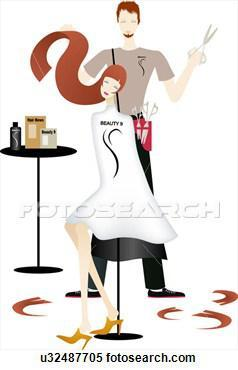bottle: (6, 115, 25, 151)
person: (32, 31, 181, 351), (63, 1, 210, 124)
